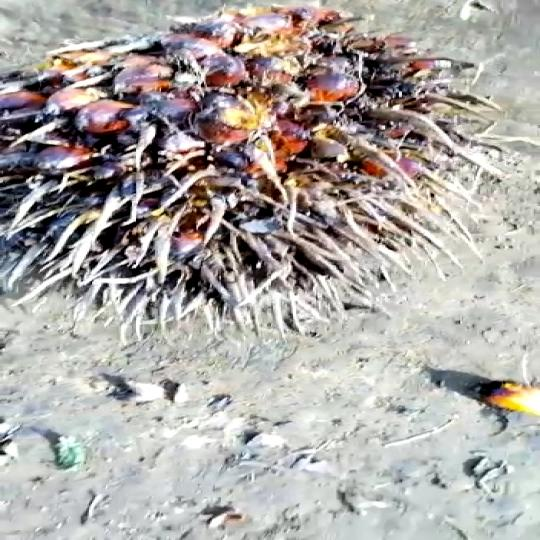terlalu masak: (0, 6, 540, 308)
